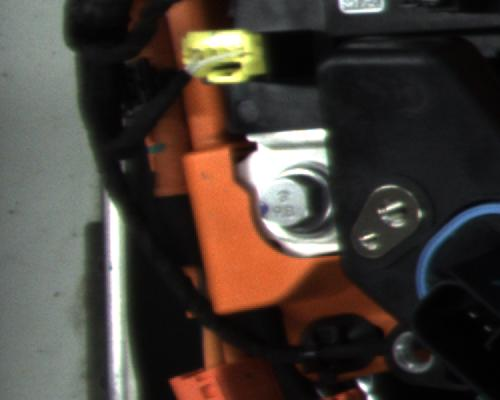nut_b: (242, 156, 335, 238)
